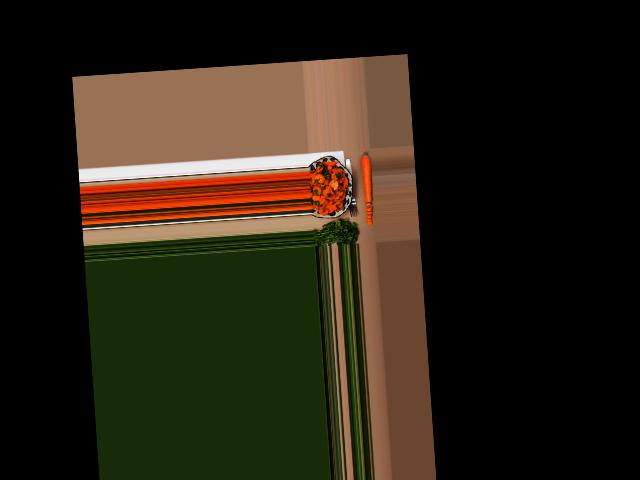carrot: (361, 152, 374, 202)
